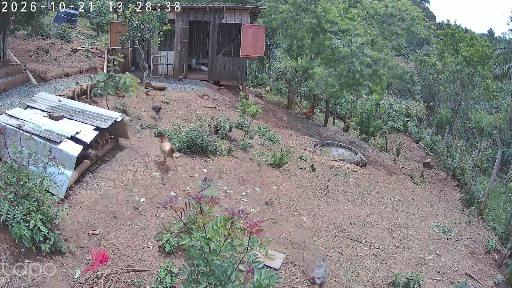frango: (97, 126, 110, 144), (78, 147, 97, 158), (93, 137, 107, 150)
galinha: (157, 129, 180, 173), (151, 104, 162, 118), (265, 87, 270, 95)
galo: (302, 104, 314, 120)
